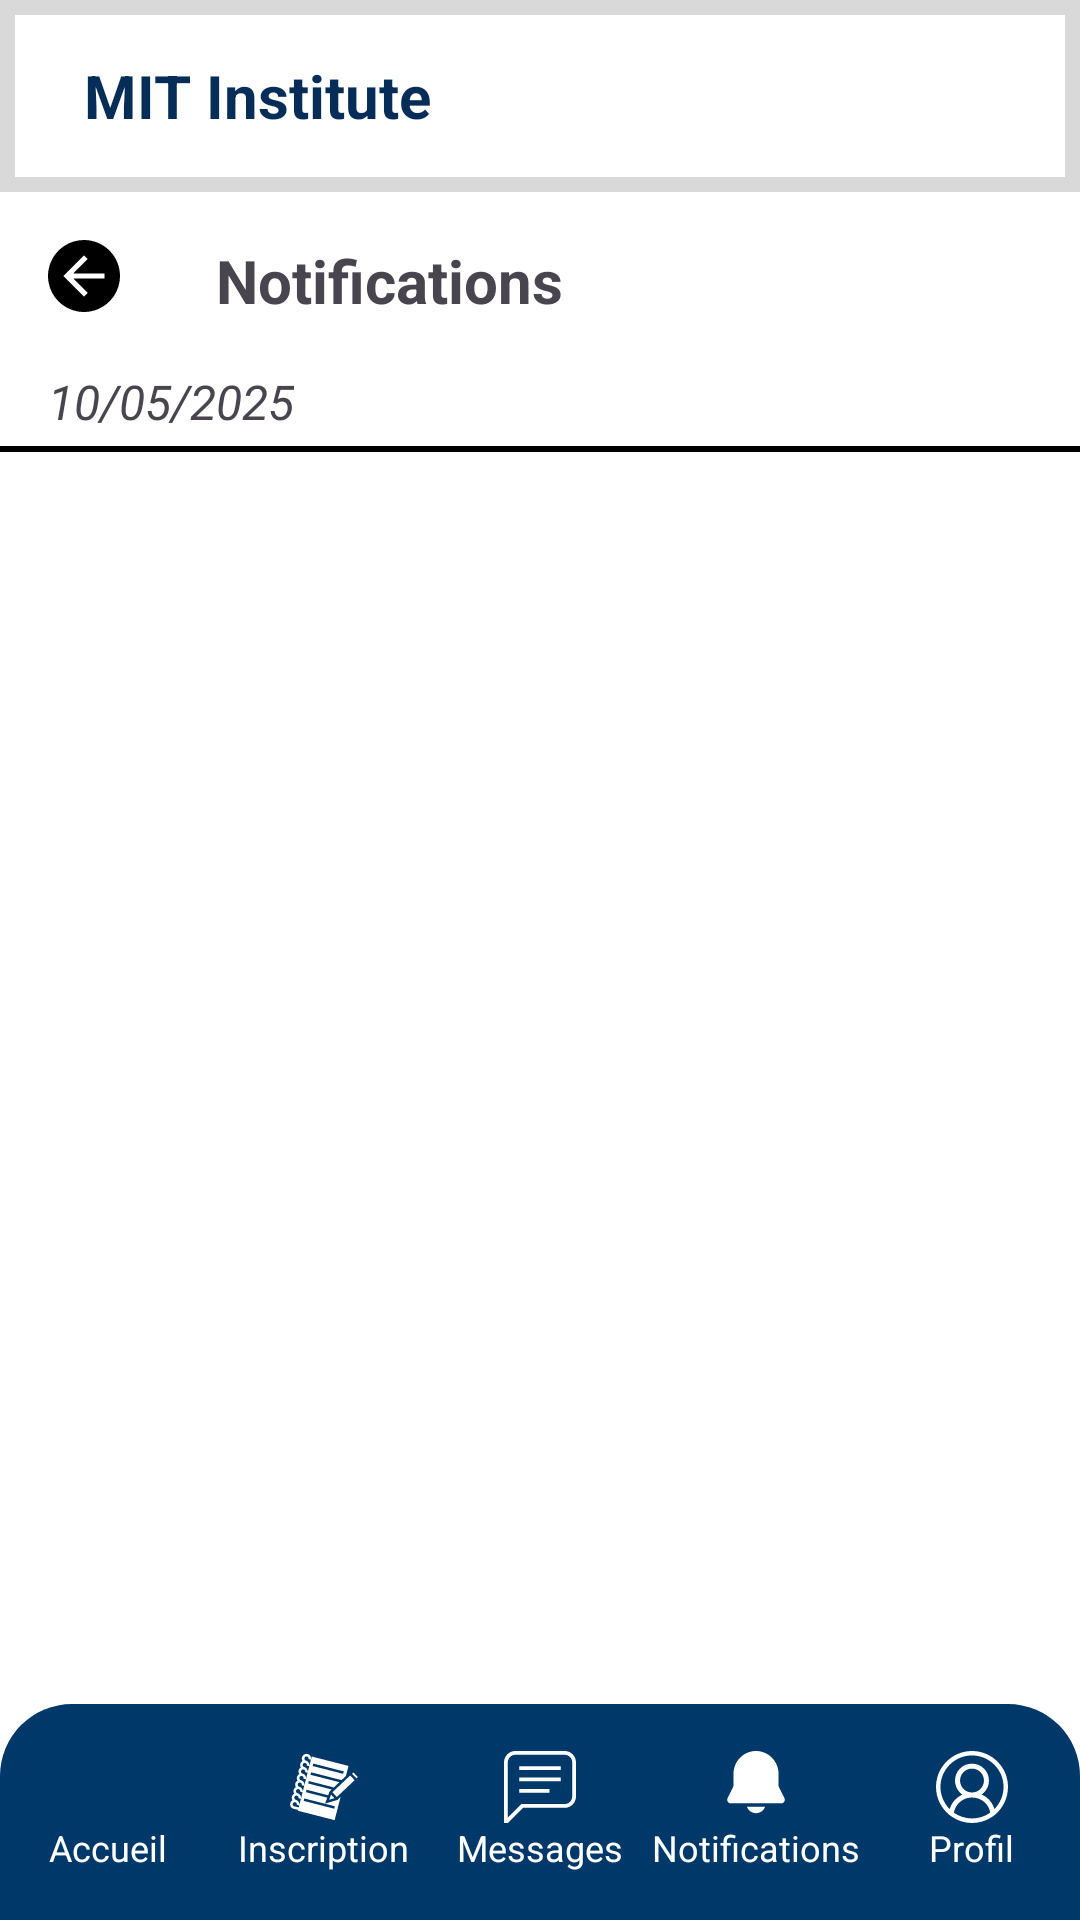

Where to tap for icons on this 1080*1920 app screen, as point (x, y):
Notes: point (324, 1786)
Retour: point (84, 276)
